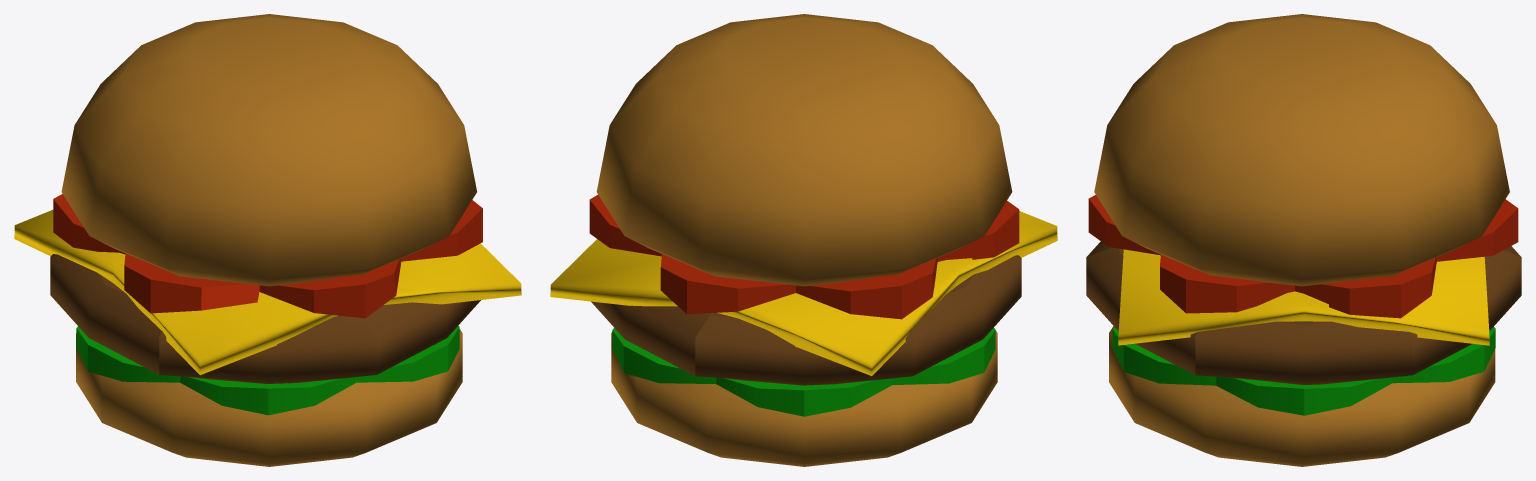
The model's file is rl_burger_2.fbx.
3 views of the same model, side by side, from view 1: azimuth 30°, elevation 25°; view 2: azimuth 150°, elevation 25°; view 3: azimuth 270°, elevation 25° (orthographic).
Visible parts, largest first — view 1: bottom bun.001, bottom bun, beef, cheese, lettuce, lettuce.001; view 2: bottom bun.001, bottom bun, beef, cheese, lettuce, lettuce.001; view 3: bottom bun.001, bottom bun, beef, cheese, lettuce, lettuce.001.
Part boxes in pixels (left/top/right/bottom): bottom bun.001: left=61, top=14, right=476, bottom=286; bottom bun: left=76, top=329, right=462, bottom=466; beef: left=50, top=254, right=480, bottom=383; cheese: left=14, top=210, right=521, bottom=375; lettuce: left=53, top=194, right=482, bottom=318; lettuce.001: left=76, top=325, right=459, bottom=415; bottom bun.001: left=596, top=14, right=1012, bottom=286; bottom bun: left=611, top=330, right=997, bottom=466; beef: left=591, top=255, right=1021, bottom=385; cheese: left=550, top=211, right=1057, bottom=375; lettuce: left=589, top=195, right=1019, bottom=319; lettuce.001: left=612, top=328, right=995, bottom=416; bottom bun.001: left=1094, top=14, right=1509, bottom=286; bottom bun: left=1109, top=326, right=1495, bottom=466; beef: left=1086, top=241, right=1521, bottom=384; cheese: left=1118, top=249, right=1489, bottom=345; lettuce: left=1088, top=195, right=1518, bottom=318; lettuce.001: left=1112, top=327, right=1495, bottom=415.
Size of the model in its own units: 201 by 183 by 210.
